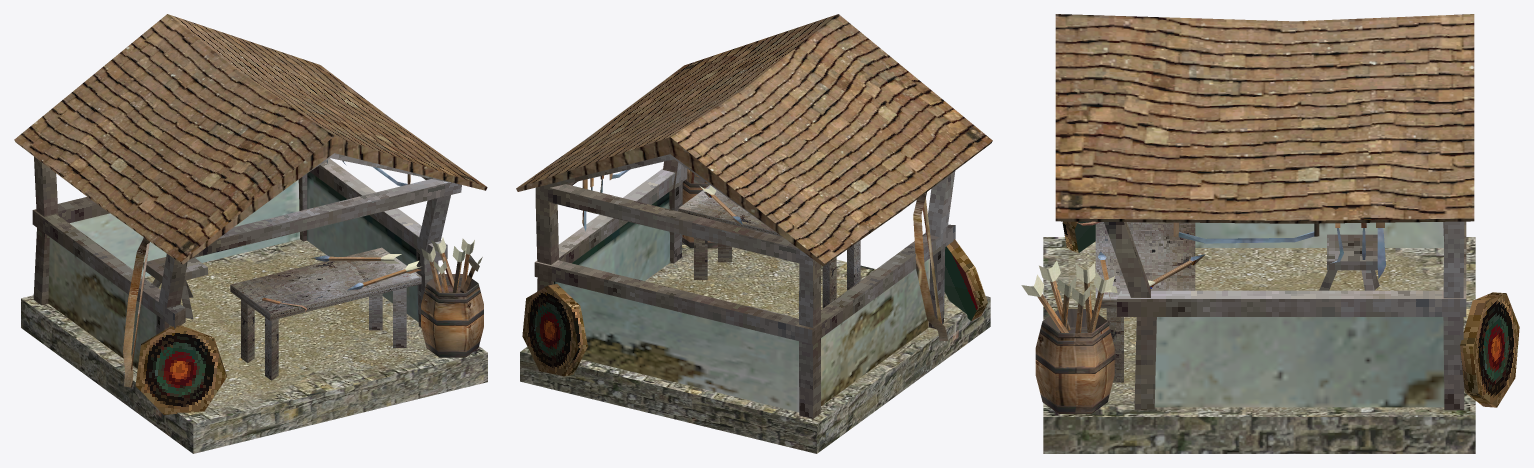
The model's file is building_fletcher_workshop.glb.
3 views of the same model, side by side, from view 1: azimuth 30°, elevation 25°; view 2: azimuth 150°, elevation 25°; view 3: azimuth 270°, elevation 25° (orthographic). The views are drawn at different scales.
Visible parts, largest first — view 1: building_fletcher_workshop; view 2: building_fletcher_workshop; view 3: building_fletcher_workshop.
Part boxes in pixels (left/top/right/bottom): building_fletcher_workshop: left=14, top=14, right=487, bottom=453; building_fletcher_workshop: left=516, top=14, right=992, bottom=453; building_fletcher_workshop: left=1021, top=14, right=1519, bottom=453.
Bounding box in the file's own units: 4.74 × 3.86 × 5.
10 materials, 10 textured.
